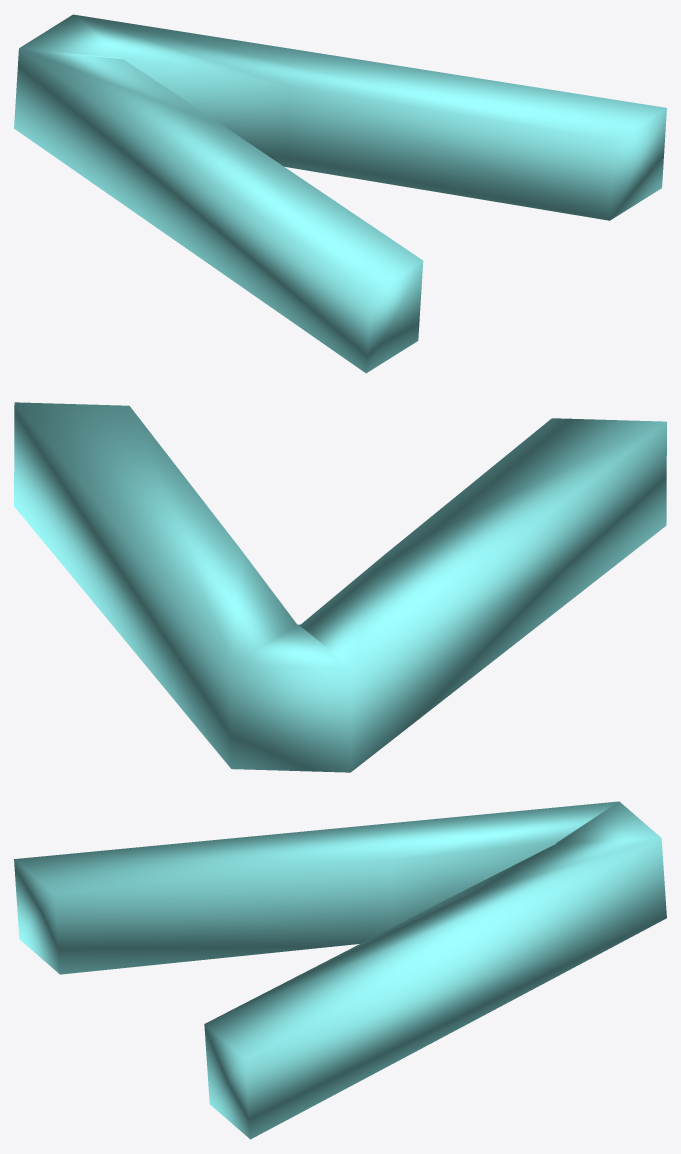
The model's file is original-12.obj.
3 views of the same model, one above another, from view 1: azimuth 30°, elevation 25°; view 2: azimuth 150°, elevation 25°; view 3: azimuth 270°, elevation 25° (orthographic). The views are drawn at different scales.
Parts seen in each view (by area): view 1: mesh13/mesh13-geometry#mesh13-geometry; view 2: mesh13/mesh13-geometry#mesh13-geometry; view 3: mesh13/mesh13-geometry#mesh13-geometry.
Part boxes in pixels (x1,y1,x2,y2): mesh13/mesh13-geometry#mesh13-geometry: [14, 14, 666, 373]; mesh13/mesh13-geometry#mesh13-geometry: [14, 402, 666, 772]; mesh13/mesh13-geometry#mesh13-geometry: [14, 801, 666, 1139].
Bounding box in the file's own units: 0.0694 × 0.0166 × 0.0851.
